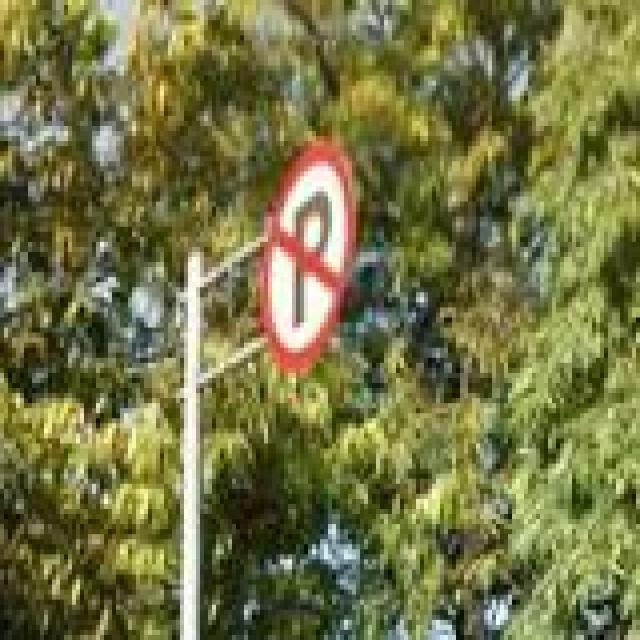traffic sign: (256, 141, 360, 368)
